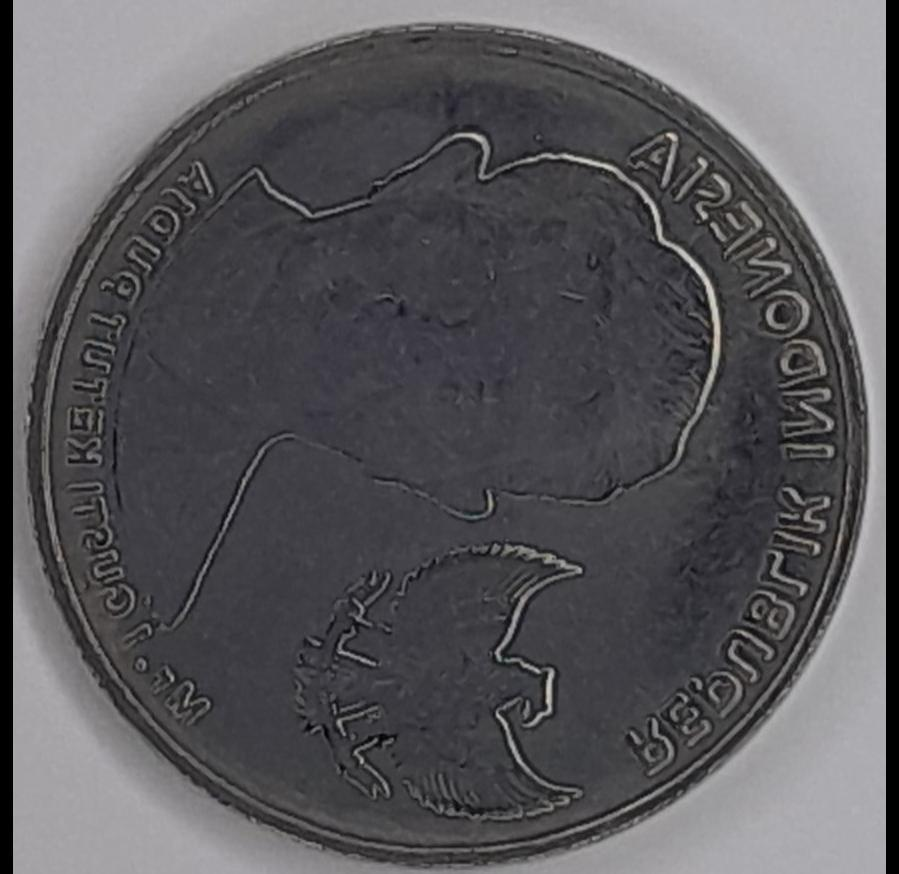coin_1000_e2016: (15, 17, 887, 874)
